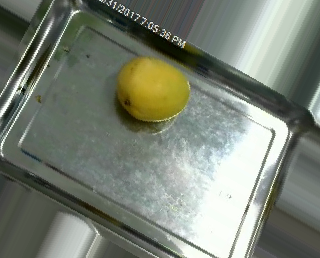Mango: (120, 56, 190, 122)
